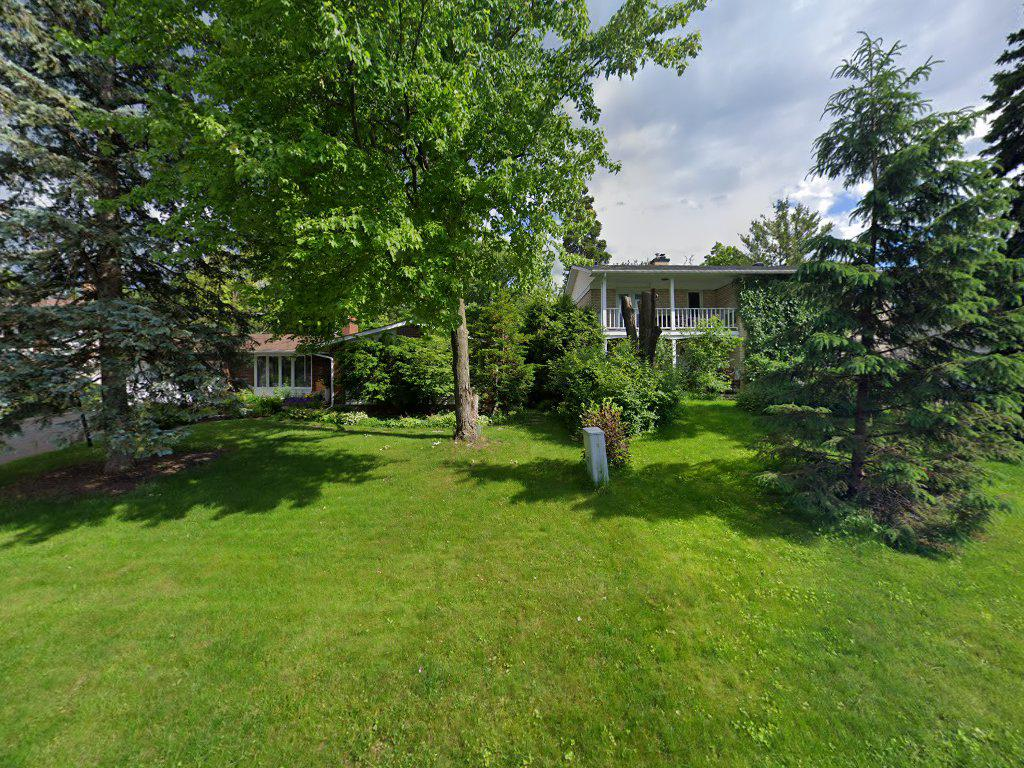trunk: (446, 291, 480, 449)
